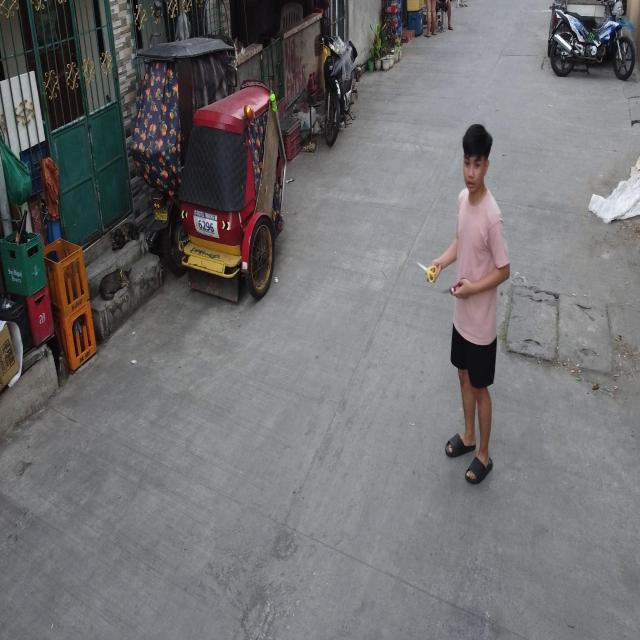scissor: (417, 261, 437, 282), (442, 278, 464, 296)
